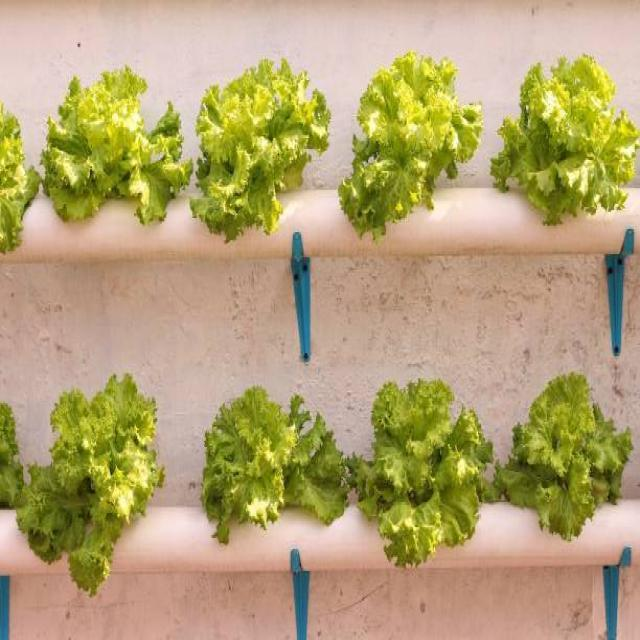Lettuce-Not-Ready-to-Harvest: (16, 374, 164, 595), (339, 52, 482, 238), (351, 379, 492, 567), (190, 59, 330, 241), (491, 55, 640, 224), (41, 68, 191, 223), (202, 386, 349, 543), (495, 372, 632, 540), (0, 102, 40, 252)
